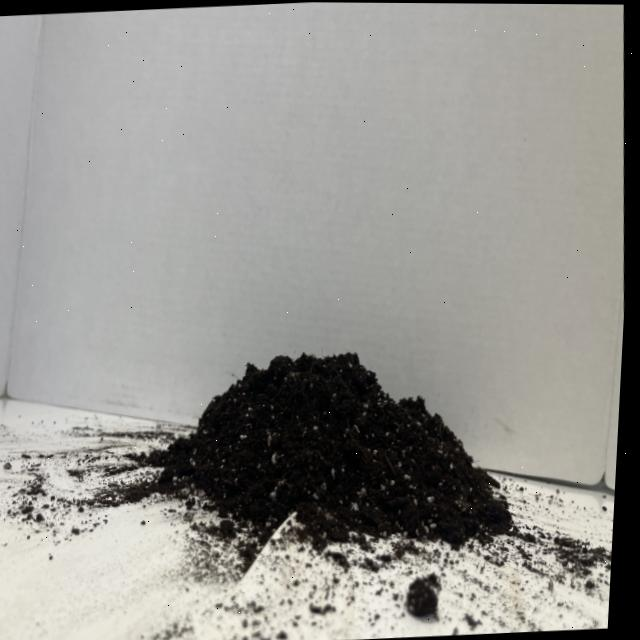soil: (116, 336, 526, 571)
